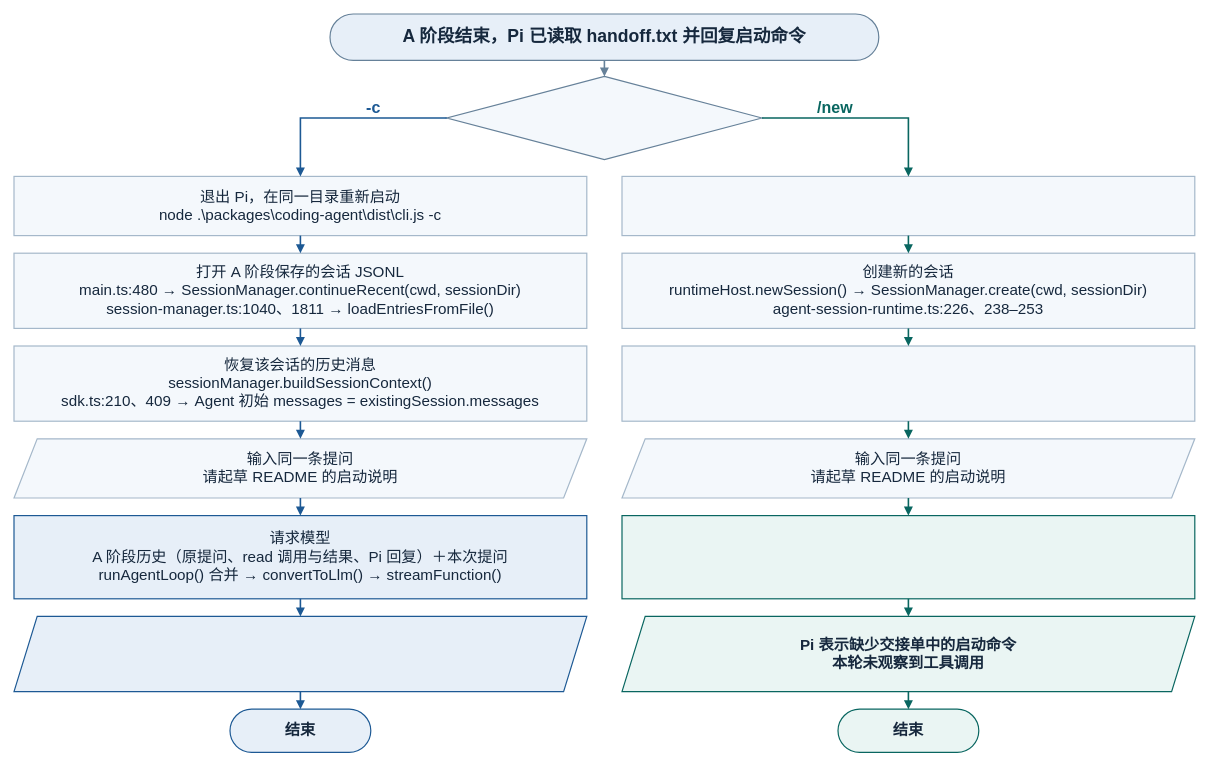
This 1210x767 diagram has some shape labels left out. The shapes that lost their labels are listed below. From the top down, each one's centre as x and y in pixels, then its label:
At pixel 604 117: "用户选择哪种会话操作？".
At pixel 908 205: "在 Pi 内输入 /new interactive-mode.ts:3429 → handleClearCommand()".
At pixel 908 383: "用新 SessionManager 重建运行时 新会话的聊天历史为空 sdk.ts:210、409 → Agent 初始 messages = []".
At pixel 908 557: "请求模型 聊天消息仅含本次提问 runAgentLoop() 合并 → convertToLlm() → streamFunction()".
At pixel 300 653: "回复包含 npm run demo -- --profile group-678418 本轮未观察到工具调用".
